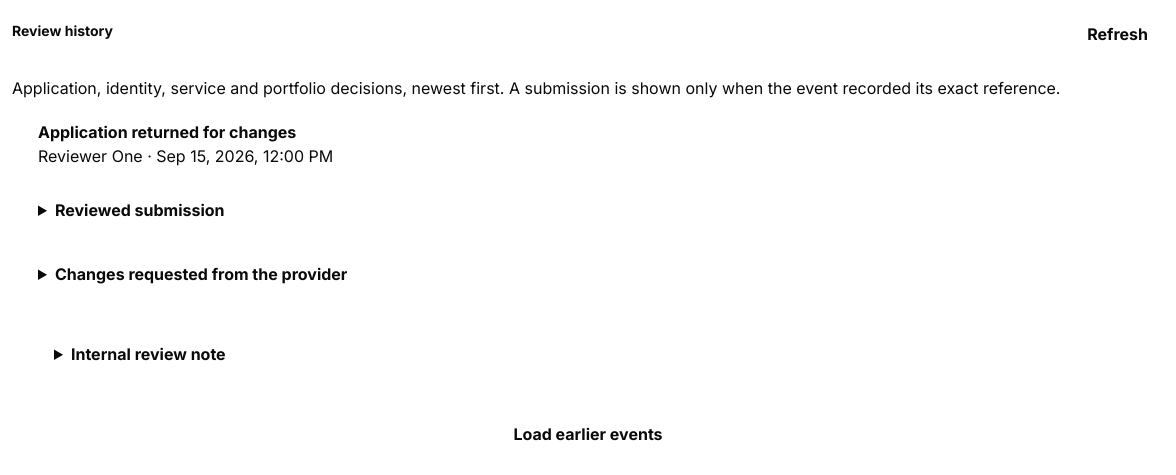
unified review history › loads subsequent pages with the server cursor and keeps independent decisions independent
Click the button "Load earlier events": point(588, 434) [12,412,1164,456]
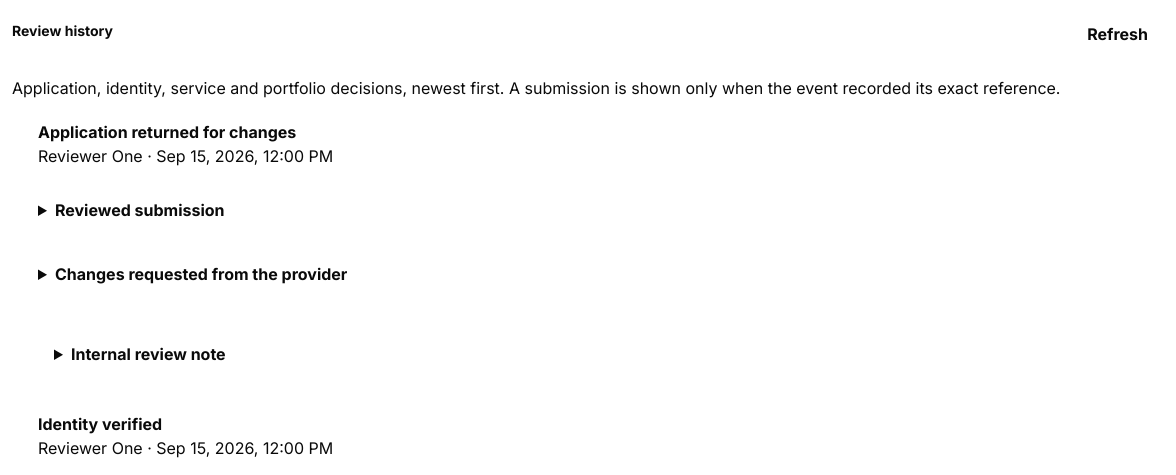
Expected: the number of headings "Reviewed submission" is 1, [55,200,224,220]
Now the text "Identity verified" is shown, box [38,414,162,434]
